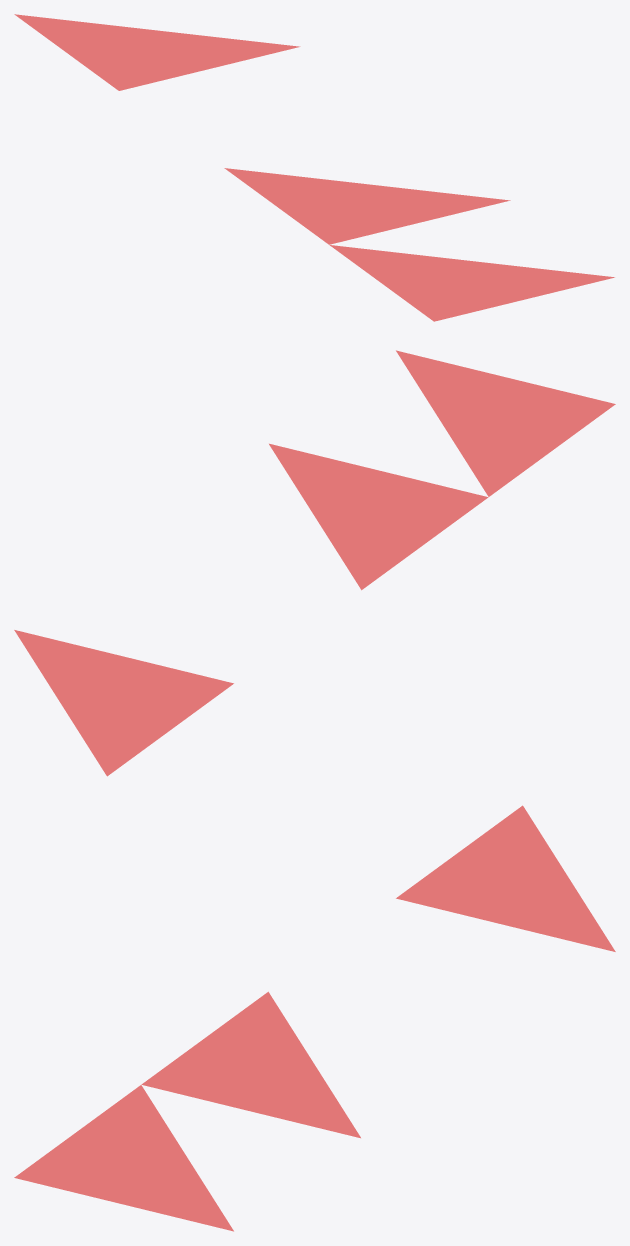
Rendered from spatial-hadamard-temporal-cubes.dae.
3 views of the same model, one above another, from view 1: azimuth 30°, elevation 25°; view 2: azimuth 150°, elevation 25°; view 3: azimuth 330°, elevation 25° (orthographic). The views are drawn at different scales.
Visible parts, largest first — view 1: zoxh, xzz, zxx; view 2: zoxh, xzz, zxx; view 3: zoxh, xzz, zxx.
Part boxes in pixels (x1,y1,x2,y2): zoxh: (224,168,510,244); xzz: (14,14,300,90); zxx: (329,245,614,321); zoxh: (269,443,488,590); xzz: (14,630,233,776); zxx: (396,350,615,496); zoxh: (141,991,360,1138); xzz: (396,805,615,951); zxx: (14,1085,233,1231).
Bounding box in the file's own units: 1 × 4 × 0.
